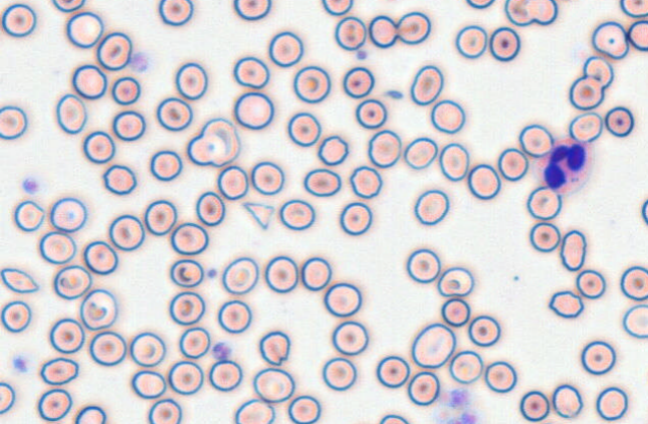GRAN: (538, 137, 592, 196)
PLT: (131, 52, 155, 76), (8, 356, 33, 376), (21, 176, 44, 196), (449, 387, 470, 408), (213, 341, 232, 359), (463, 410, 481, 424), (205, 266, 219, 281), (357, 49, 368, 61)
RBC: (186, 117, 240, 167), (411, 322, 456, 368), (79, 288, 117, 330), (233, 91, 274, 129), (252, 367, 295, 403), (591, 20, 629, 59), (221, 256, 258, 294), (293, 65, 330, 103), (96, 31, 132, 70), (409, 64, 443, 105), (66, 11, 103, 48), (108, 214, 145, 251), (53, 264, 92, 299), (323, 282, 362, 317), (89, 330, 126, 366), (49, 197, 87, 232), (367, 129, 401, 168), (55, 93, 87, 134), (568, 74, 604, 110), (129, 331, 165, 367), (413, 189, 449, 225), (331, 320, 368, 355), (268, 30, 303, 67), (170, 221, 208, 255), (264, 255, 298, 293), (580, 340, 616, 375), (49, 317, 84, 353), (71, 64, 107, 99), (156, 96, 192, 131), (168, 291, 205, 325), (232, 55, 269, 89), (175, 61, 207, 100), (321, 356, 356, 391), (405, 248, 440, 283), (168, 360, 203, 395), (430, 99, 465, 134), (467, 163, 501, 199), (287, 111, 321, 147), (39, 231, 76, 264), (438, 142, 469, 181), (448, 350, 483, 384), (1, 3, 36, 37), (518, 123, 553, 157), (526, 186, 561, 220), (83, 240, 118, 274), (144, 199, 177, 235), (217, 299, 251, 333), (250, 161, 284, 195), (407, 371, 440, 406), (375, 355, 410, 388), (37, 388, 72, 421), (279, 198, 315, 230), (437, 266, 474, 297), (303, 167, 341, 197), (559, 229, 586, 271), (595, 386, 628, 420), (396, 11, 430, 44), (339, 201, 372, 235), (403, 136, 437, 169), (39, 357, 79, 385), (488, 26, 520, 61), (349, 165, 382, 198), (484, 360, 517, 393), (467, 314, 500, 347), (82, 130, 115, 163), (551, 384, 583, 418), (334, 16, 366, 50), (208, 359, 242, 391), (455, 24, 487, 58), (217, 165, 248, 200), (568, 111, 603, 142), (300, 256, 331, 291), (102, 164, 137, 195), (178, 326, 210, 359), (149, 149, 182, 181), (582, 55, 613, 89), (497, 147, 528, 181), (131, 369, 166, 399), (195, 191, 225, 226), (342, 66, 374, 98), (112, 110, 145, 141), (234, 398, 274, 423), (0, 300, 31, 332), (13, 199, 44, 231), (355, 98, 387, 129), (287, 394, 321, 423), (368, 14, 397, 48), (169, 258, 203, 287), (620, 265, 647, 301), (317, 134, 348, 165), (529, 221, 560, 252), (604, 105, 634, 137), (0, 104, 27, 139), (519, 390, 549, 421), (158, 0, 193, 26), (575, 269, 605, 299), (622, 303, 647, 338), (440, 297, 470, 326), (111, 76, 141, 105), (148, 398, 181, 423), (526, 0, 558, 25), (504, 0, 534, 26), (233, 0, 271, 20), (627, 19, 647, 51), (74, 405, 106, 423), (619, 0, 647, 18), (0, 381, 15, 414), (321, 0, 353, 15), (51, 0, 85, 12), (379, 413, 408, 423), (465, 0, 495, 9), (641, 198, 647, 225)
Schistocyte: (1, 267, 39, 294), (260, 333, 291, 365), (242, 202, 275, 230), (550, 291, 582, 317)
